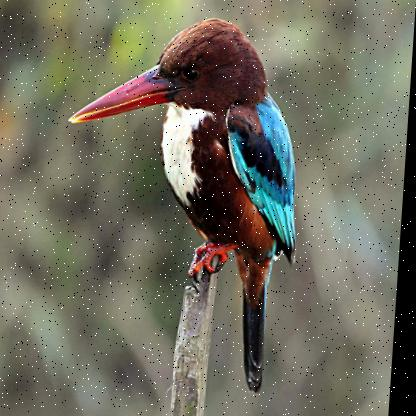Burung: (57, 19, 312, 392)
